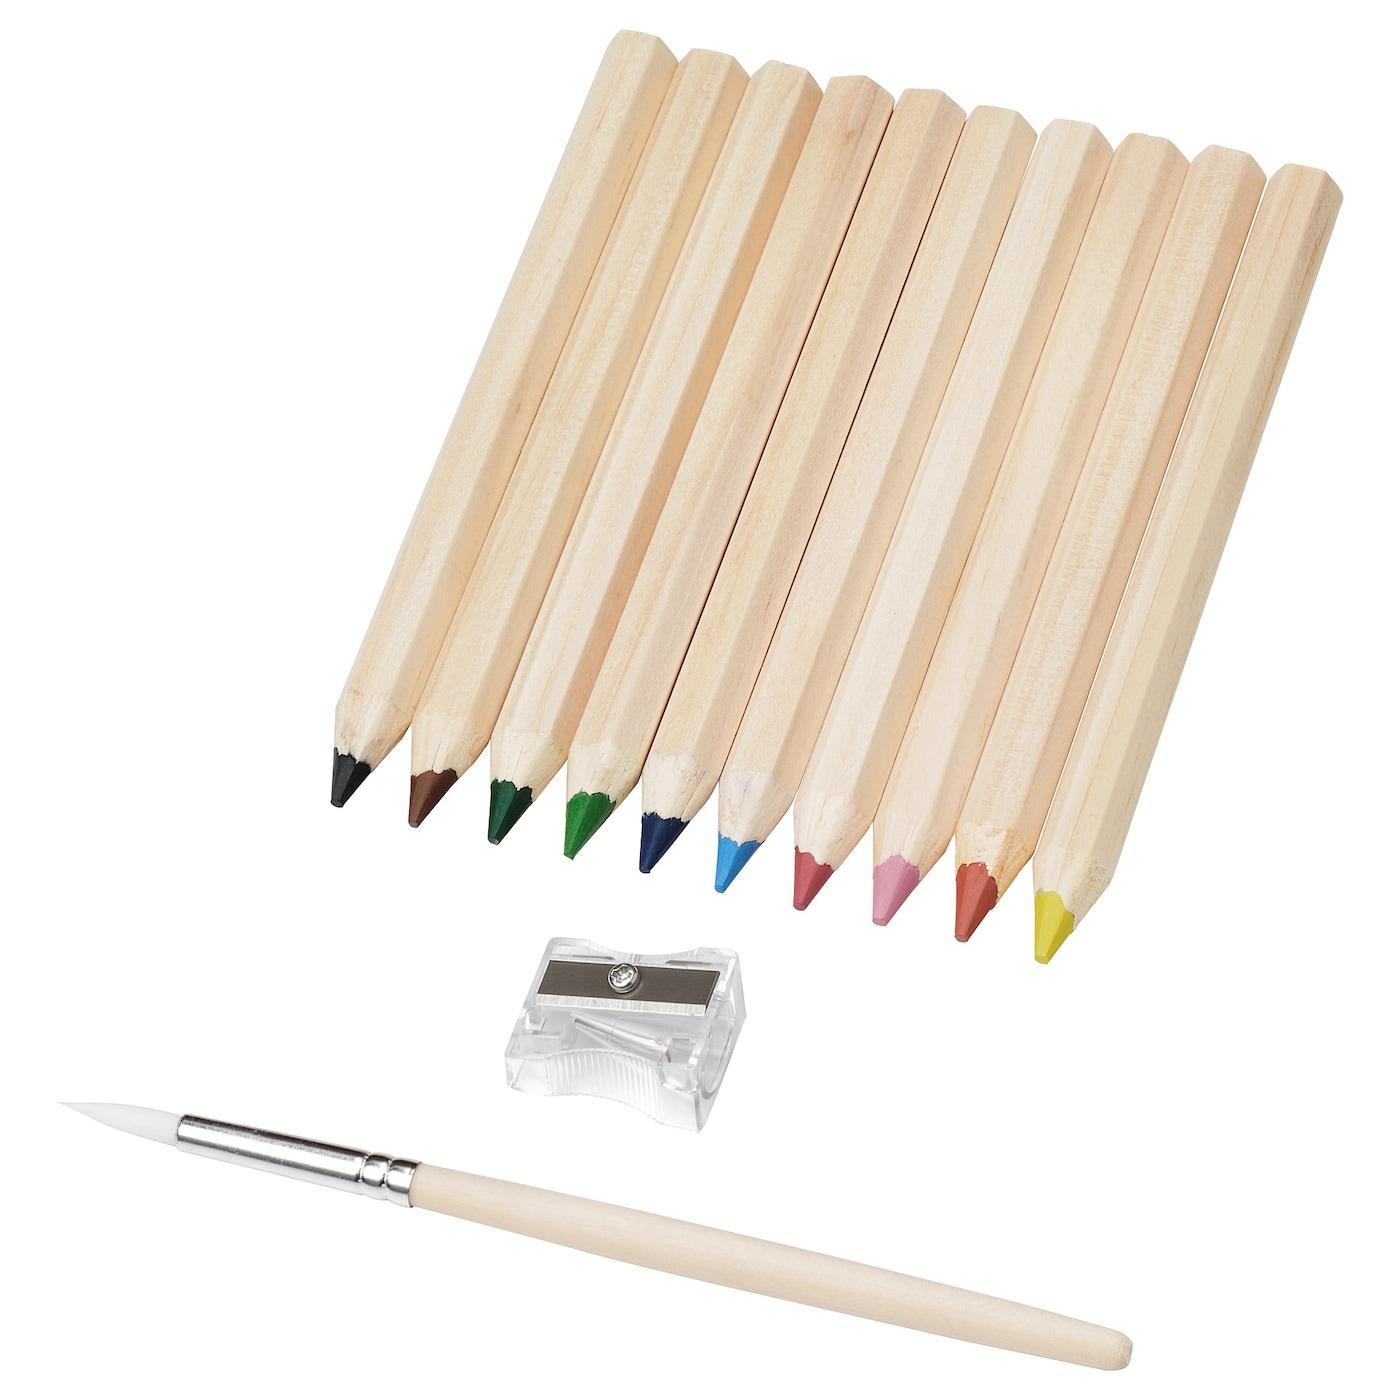pencil: (279, 15, 1336, 999)
